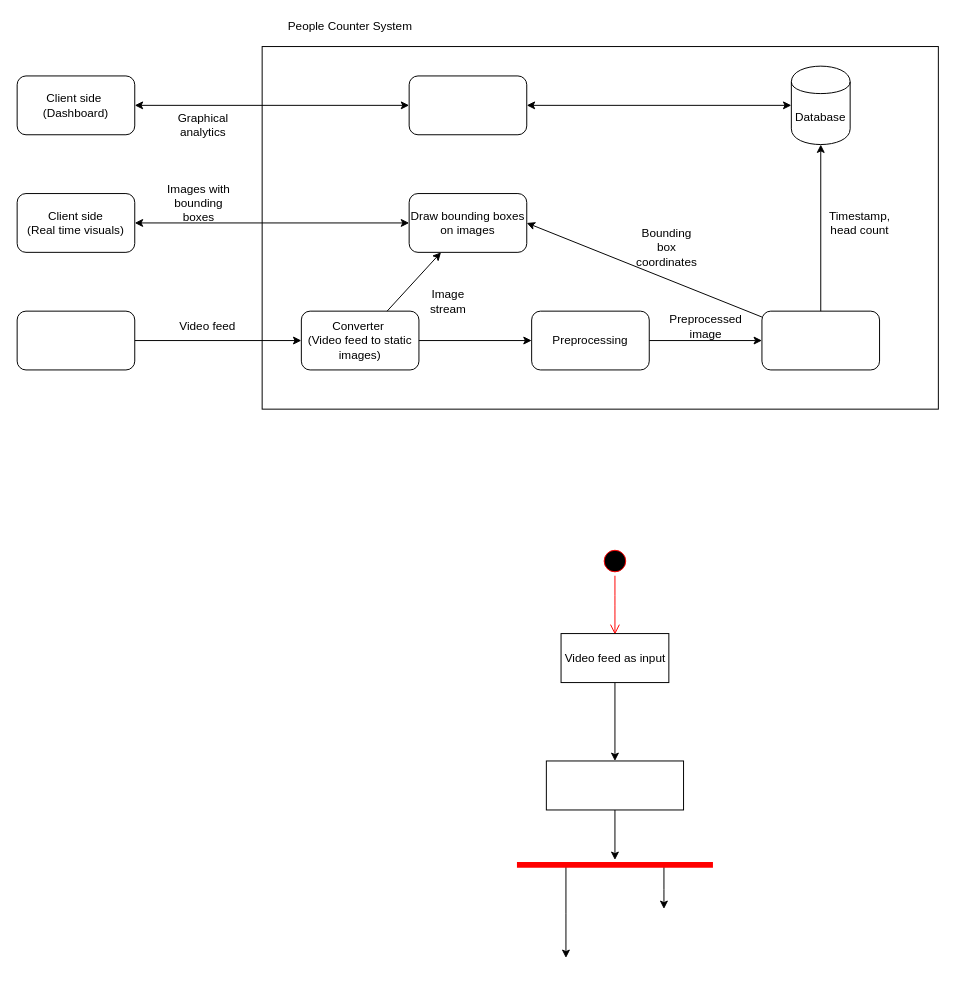
The diagram is 956 pixels wide and 983 high, and some of its shapes have lost their labels. Each missing label, with the box of its shape:
Analytics logic: (408, 75, 527, 135)
Camera Module: (16, 310, 135, 370)
Converting video feed to static images: (545, 760, 684, 810)
Object detection (counting heads): (761, 310, 880, 370)
